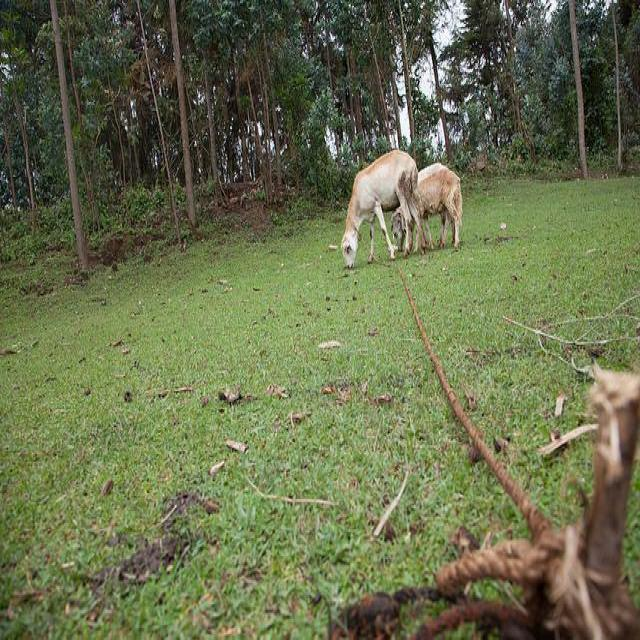Sheep: (343, 153, 428, 270), (390, 168, 463, 253)
